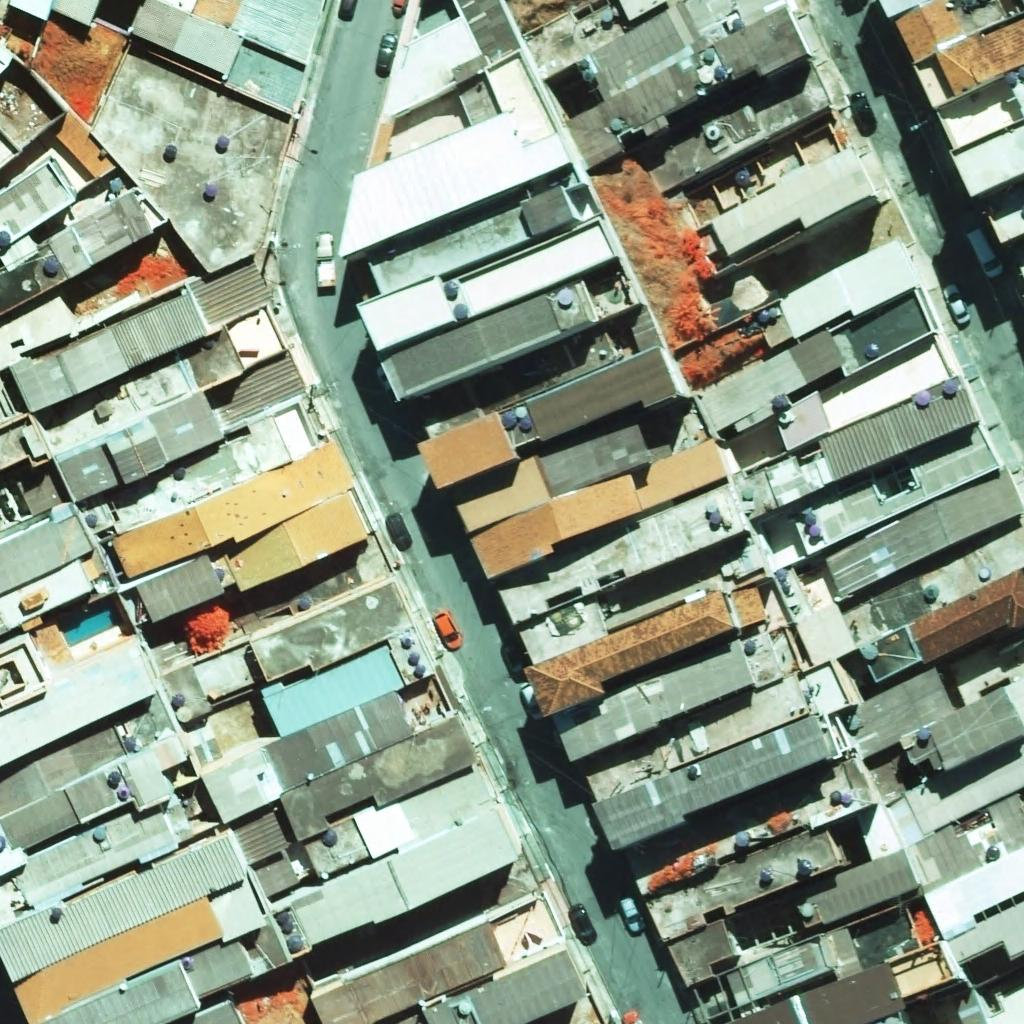pool: (57, 597, 124, 647)
